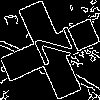Z: (25, 25, 79, 72)
